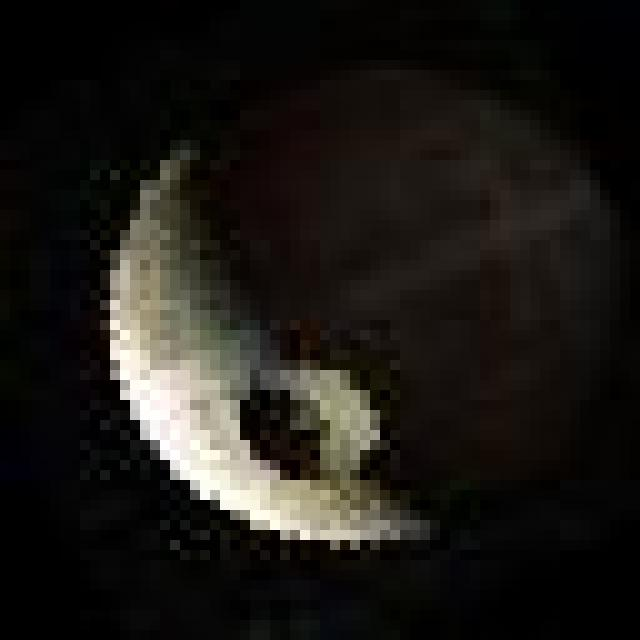Death Star: (90, 130, 440, 550)
